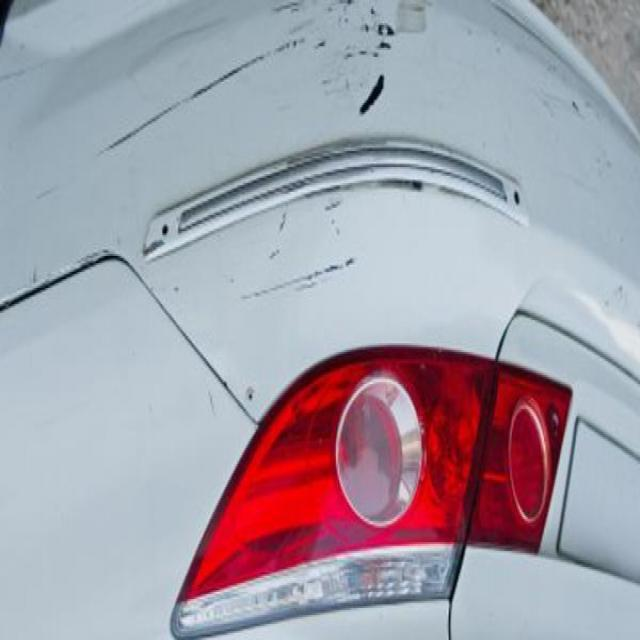scratch: (82, 21, 313, 178), (226, 248, 360, 318)
